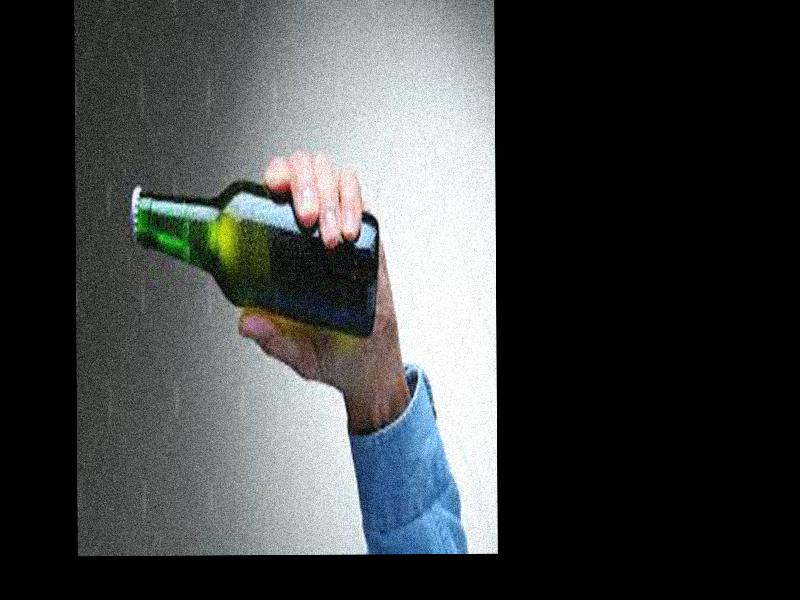Beer: (133, 172, 378, 342)
